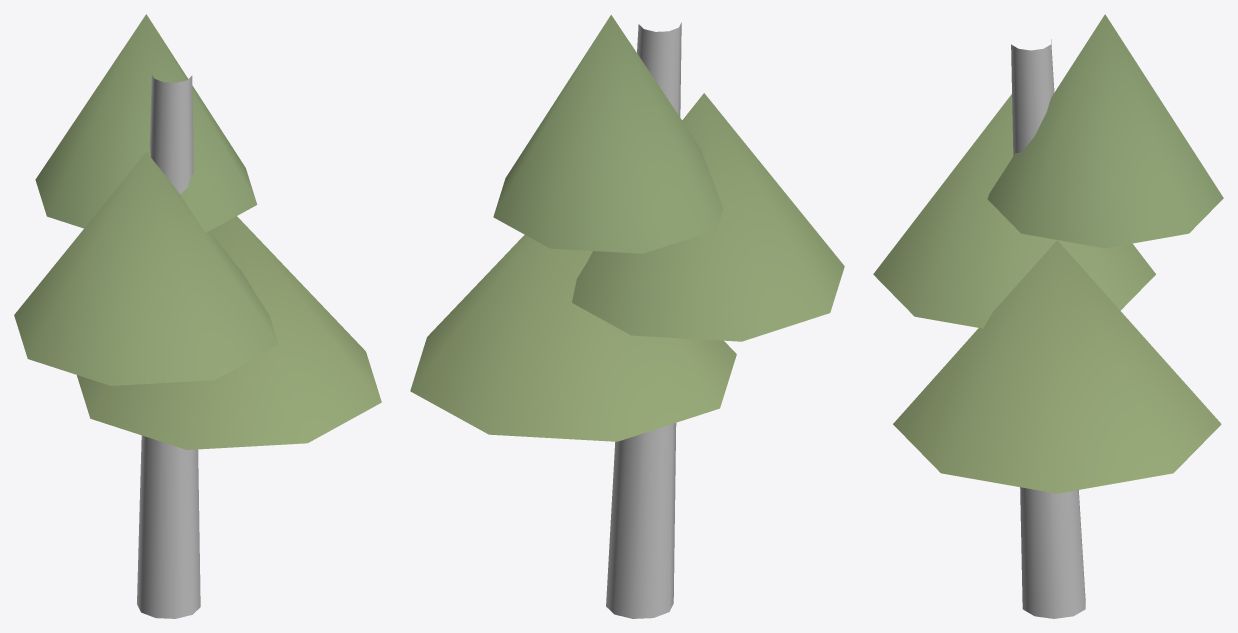
File: pine_v1_far.gltf
3 renders of one model, left to right at view 1: azimuth 30°, elevation 25°; view 2: azimuth 150°, elevation 25°; view 3: azimuth 270°, elevation 25°, orthographic. The views are drawn at different scales.
Visible parts, largest first — view 1: foliage, bark; view 2: foliage, bark; view 3: foliage, bark.
Part boxes in pixels (<box>): foliage: <box>14,14,381,449</box>; bark: <box>137,74,200,618</box>; foliage: <box>410,15,844,441</box>; bark: <box>606,22,681,618</box>; foliage: <box>873,14,1223,493</box>; bark: <box>1011,39,1085,618</box>.
Bounding box in the file's own units: 2.84 × 4.34 × 2.33.
